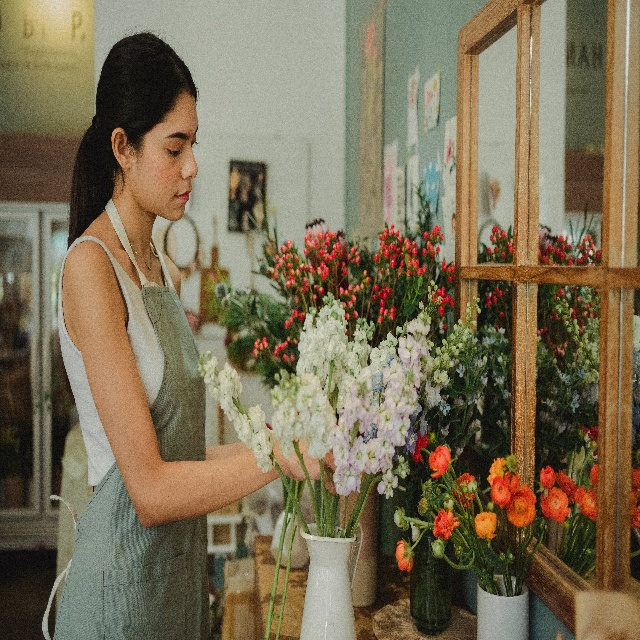Sin_guantes: (282, 441, 336, 494)
